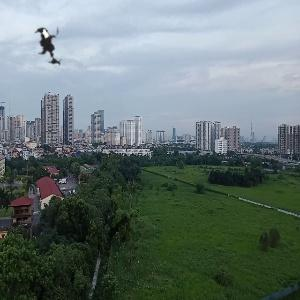drone: (20, 13, 87, 80)
